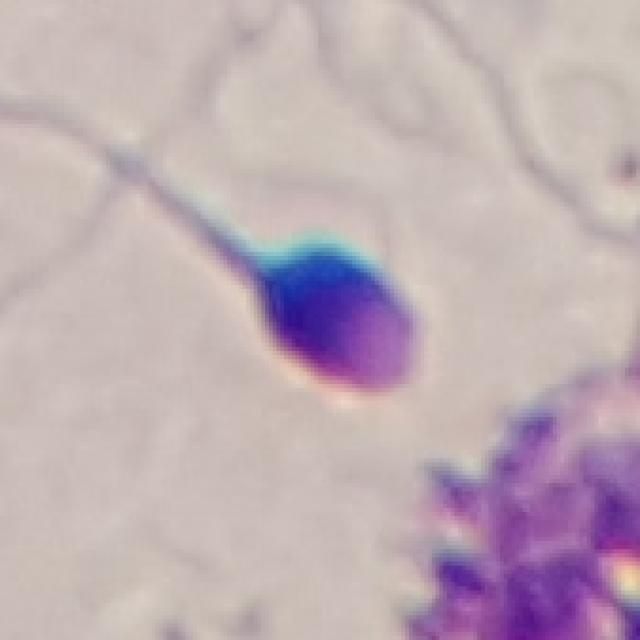normal sperm: (56, 138, 440, 403)
